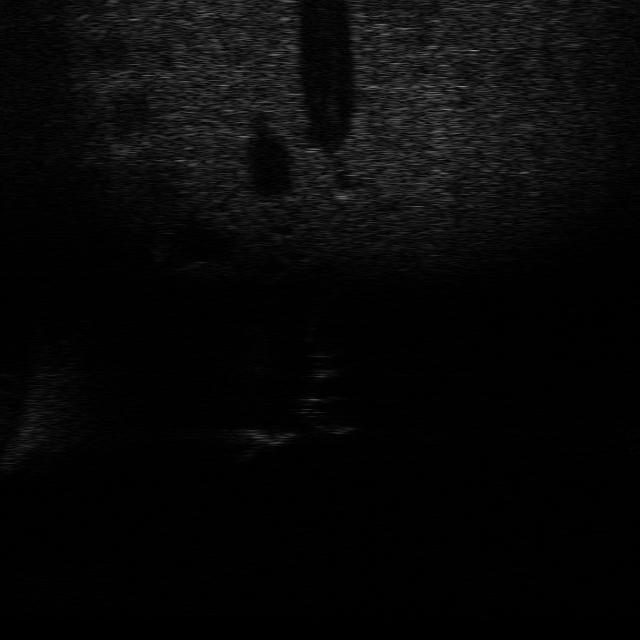ball: (297, 351, 343, 383)
square cage: (228, 422, 304, 458)
tyre: (294, 391, 362, 437)
